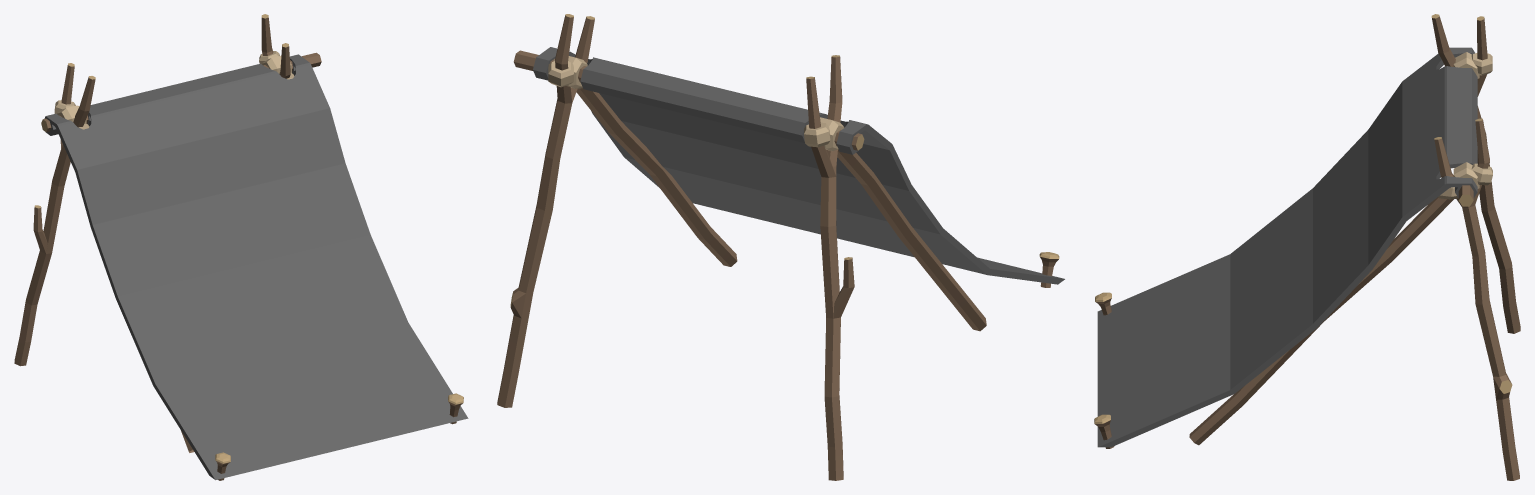
Rendered from Hilly_Prop_Camp_Lean_To.fbx.
3 views of the same model, side by side, from view 1: azimuth 30°, elevation 25°; view 2: azimuth 150°, elevation 25°; view 3: azimuth 270°, elevation 25° (orthographic). The views are drawn at different scales.
Visible parts, largest first — view 1: object11, object12, object8; view 2: object11, object12, object8, object10, object5, object1; view 3: object11, object8, object10, object12.
Boxes of the visible parts, box(x1,y1,x2,y2) form: object11: box(44, 54, 468, 480); object12: box(14, 63, 95, 366); object8: box(261, 14, 290, 78); object11: box(533, 47, 1064, 284); object12: box(806, 55, 854, 480); object8: box(497, 14, 594, 407); object10: box(576, 88, 737, 266); object5: box(837, 149, 986, 331); object1: box(513, 50, 864, 150); object11: box(1097, 47, 1477, 447); object8: box(1434, 118, 1519, 480); object10: box(1189, 197, 1453, 445); object12: box(1431, 14, 1520, 333).
Size of the model in its own units: 1.37 by 1.44 by 1.64.
